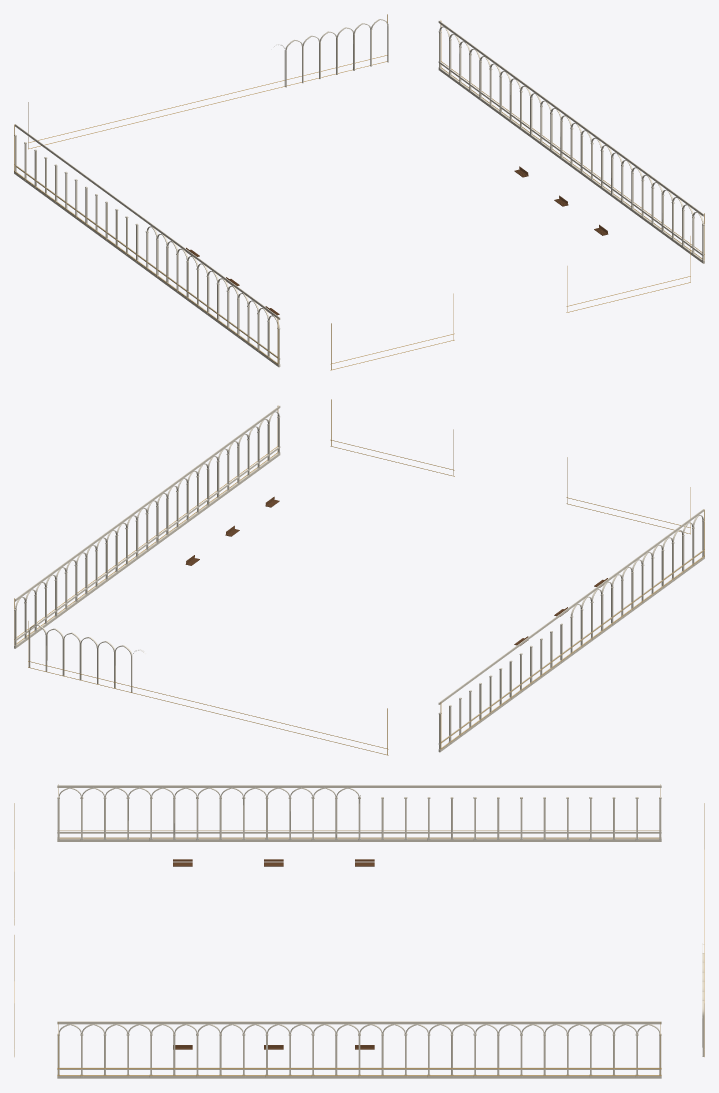
The model's file is castle-03.glb.
3 renders of one model, top to bottom at view 1: azimuth 30°, elevation 25°; view 2: azimuth 150°, elevation 25°; view 3: azimuth 270°, elevation 25°, orthographic. The views are drawn at different scales.
Visible parts, largest first — view 1: NC.Export.Fortifications.IvoryStone.06, NC.Export.Fortifications.IvoryStone.05, NC.Export.Fortifications.IvoryStone.04, NC.Export.Fortifications.PolishedBrass; view 2: NC.Export.Fortifications.IvoryStone.06, NC.Export.Fortifications.IvoryStone.05, NC.Export.Fortifications.IvoryStone.04, NC.Export.Fortifications.PolishedBrass; view 3: NC.Export.Fortifications.IvoryStone.06, NC.Export.Fortifications.IvoryStone.05, NC.Export.Fortifications.IvoryStone.04, NC.Export.Fortifications.PolishedBrass, NC.Export.Courtyard.GardenWood.
Part boxes in pixels (bbox=[...]): NC.Export.Fortifications.IvoryStone.06: bbox=[274, 19, 704, 263]; NC.Export.Fortifications.IvoryStone.05: bbox=[14, 63, 703, 367]; NC.Export.Fortifications.IvoryStone.04: bbox=[14, 134, 279, 348]; NC.Export.Fortifications.PolishedBrass: bbox=[14, 14, 704, 370]; NC.Export.Fortifications.IvoryStone.06: bbox=[14, 405, 280, 692]; NC.Export.Fortifications.IvoryStone.05: bbox=[74, 411, 704, 752]; NC.Export.Fortifications.IvoryStone.04: bbox=[438, 515, 703, 751]; NC.Export.Fortifications.PolishedBrass: bbox=[14, 399, 704, 755]; NC.Export.Fortifications.IvoryStone.06: bbox=[57, 943, 704, 1078]; NC.Export.Fortifications.IvoryStone.05: bbox=[57, 785, 661, 1034]; NC.Export.Fortifications.IvoryStone.04: bbox=[58, 787, 661, 840]; NC.Export.Fortifications.PolishedBrass: bbox=[14, 784, 704, 1075]; NC.Export.Courtyard.GardenWood: bbox=[173, 859, 374, 1049].
Bounding box in the file's own units: 105 × 11.7 × 129.
